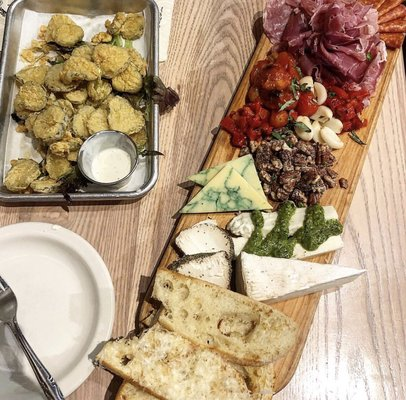curry: (240, 200, 343, 260), (295, 203, 343, 251)
salad: (0, 270, 65, 398)
sushi: (78, 129, 139, 187)
